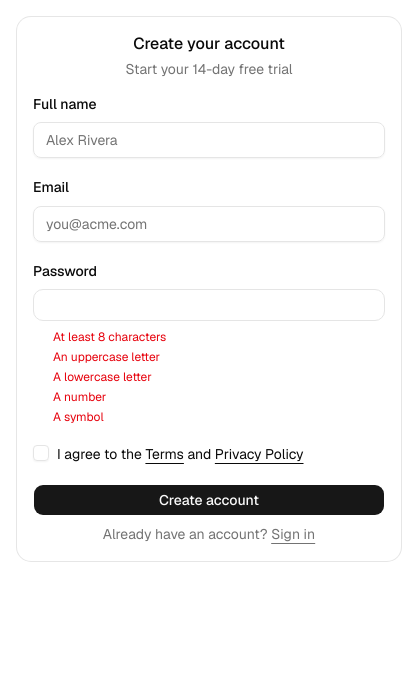
Test: Register › shows validation errors on empty submit
The image size is (419, 691).
Click the button "Create account" at (209, 500), box [33,484,385,516]
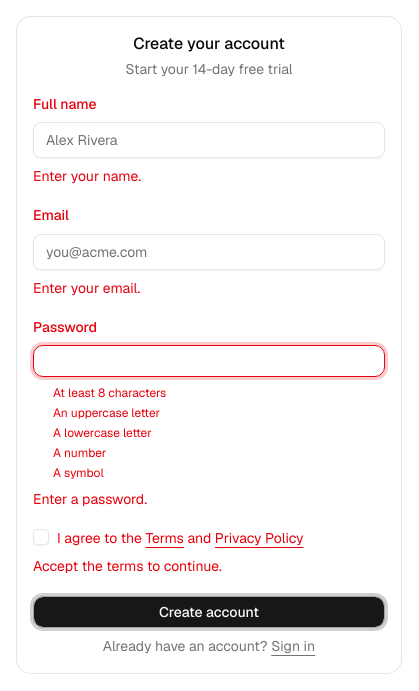
Result: the text "Enter your name." is shown at [33,167,141,185]
Result: the text "Enter your email." is shown at [33,278,140,296]
Result: the text "Enter a password." is shown at [33,490,147,508]
